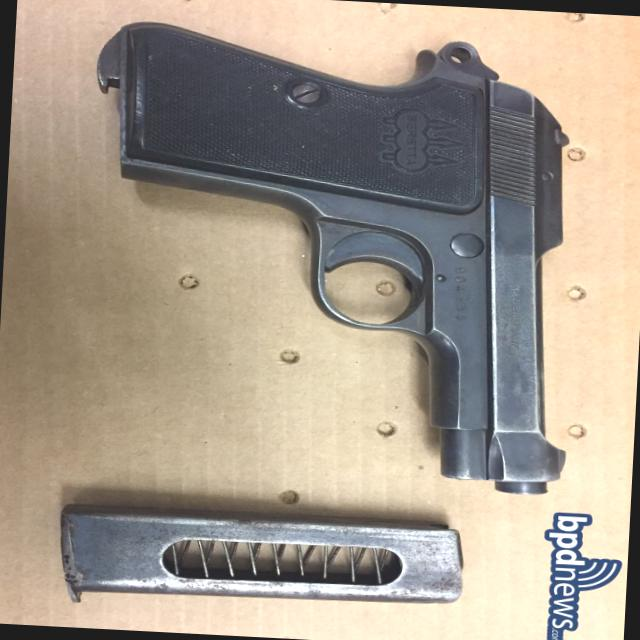handgun: (74, 16, 586, 497)
